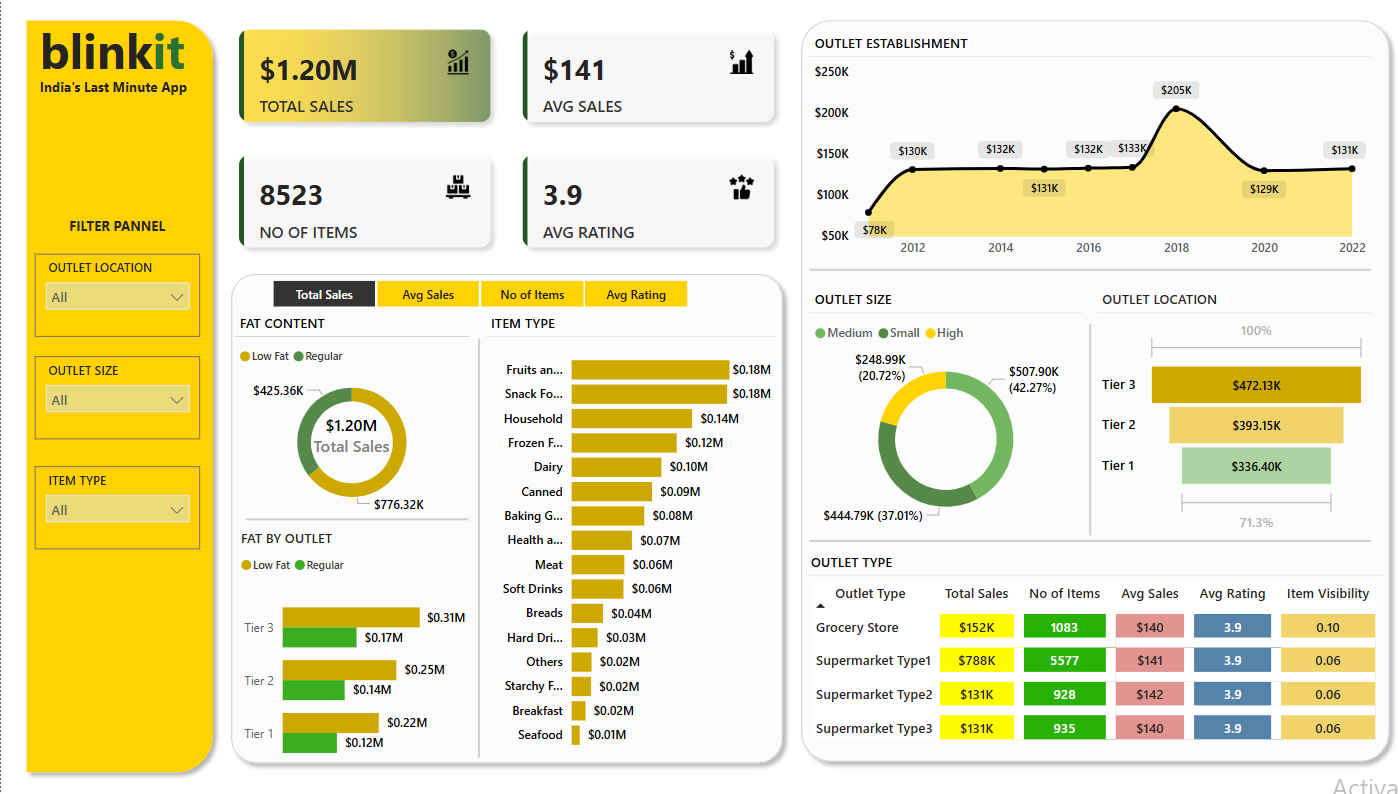

The dashboard page shown, as its layout file describes it:
{"tool":"powerbi","page":{"name":"Page 1","canvas":[1400,800],"ordinal":0},"visuals":[{"type":"shape","box":[16.3,10.9,205.2,771.7],"z":0},{"type":"textbox","box":[34,12.2,169.8,91],"z":1000},{"type":"textbox","box":[34,72,169.8,31.3],"z":2000},{"type":"cardVisual","fields":{"Data":["BlinkIT Grocery Data.Total Sales","BlinkIT Grocery Data.Avg Sales","BlinkIT Grocery Data.No of Items","BlinkIT Grocery Data.Avg Rating"]},"box":[221.5,12.2,570.7,252.7],"z":3000},{"type":"shape","box":[221.5,264.9,570.7,508.2],"z":4000},{"type":"slicer","fields":{"Values":["Metrics.Metrics"]},"box":[247.3,274.5,464.7,39.4],"z":5000},{"type":"donutChart","title":"FAT CONTENT","fields":{"Y":["BlinkIT Grocery Data.No of Items"],"Category":["BlinkIT Grocery Data.Item Fat Content"]},"box":[233.7,313.9,235.1,206.5],"z":6000},{"type":"cardVisual","fields":{"Data":["BlinkIT Grocery Data.No of Items"]},"box":[293.5,396.7,116.8,73.4],"z":7000},{"type":"clusteredBarChart","title":"FAT BY OUTLET","fields":{"Y":["BlinkIT Grocery Data.No of Items"],"Category":["BlinkIT Grocery Data.Outlet Location Type"],"Series":["BlinkIT Grocery Data.Item Fat Content"]},"box":[235.1,529.9,235.1,252.7],"z":8000},{"type":"shape","box":[245.9,489.1,222.8,61.1],"z":9000},{"type":"shape","box":[456.5,339.7,43.5,419.8],"z":10000},{"type":"barChart","title":"ITEM TYPE","fields":{"Y":["BlinkIT Grocery Data.No of Items"],"Category":["BlinkIT Grocery Data.Item Type"]},"box":[486.4,313.9,290.8,445.7],"z":11000},{"type":"shape","box":[792.1,10.9,607.3,760.9],"z":12000},{"type":"areaChart","title":"OUTLET ESTABLISHMENT","fields":{"Category":["BlinkIT Grocery Data.Outlet Establishment Year"],"Y":["BlinkIT Grocery Data.Total Sales"]},"box":[809.8,34,562.5,231],"z":13000},{"type":"donutChart","title":"OUTLET SIZE","fields":{"Category":["BlinkIT Grocery Data.Outlet Size"],"Y":["BlinkIT Grocery Data.Total Sales"]},"box":[809.8,290.8,273.1,245.9],"z":14000},{"type":"shape","box":[809.8,248.6,562.5,42.1],"z":15000},{"type":"shape","box":[1069.3,324.7,43.5,212],"z":16000},{"type":"funnel","title":"OUTLET LOCATION","fields":{"Category":["BlinkIT Grocery Data.Outlet Location Type"],"Y":["BlinkIT Grocery Data.Total Sales"]},"box":[1097.8,290.8,274.5,245.9],"z":17000},{"type":"shape","box":[809.8,520.4,562.5,42.1],"z":18000},{"type":"pivotTable","title":"OUTLET TYPE","fields":{"Rows":["BlinkIT Grocery Data.Outlet Type"],"Values":["BlinkIT Grocery Data.Total Sales","BlinkIT Grocery Data.No of Items","BlinkIT Grocery Data.Avg Sales","BlinkIT Grocery Data.Avg Rating","Avg(BlinkIT Grocery Data.Item Visibility)"]},"box":[807.1,553,578.8,220.1],"z":19000},{"type":"slicer","fields":{"Values":["BlinkIT Grocery Data.Outlet Location Type"]},"box":[34,254.1,165.8,82.9],"z":20000},{"type":"slicer","fields":{"Values":["BlinkIT Grocery Data.Outlet Size"]},"box":[34,357.3,165.8,82.9],"z":21000},{"type":"slicer","fields":{"Values":["BlinkIT Grocery Data.Item Type"]},"box":[34,467.4,165.8,82.9],"z":22000},{"type":"textbox","box":[42.6,209.1,147.8,40.1],"z":23000},{"type":"slicer","fields":{"Values":["BlinkIT Grocery Data.Item Fat Content"]},"box":[33.8,573.6,165.3,82.7],"z":24000}]}

Visuals, with their boxes in screenshot pixels (x1, y1, x2, y2), scaled from the page's 1400x800 canvas onto the 1398x794 screenshot:
shape: bbox=[16, 11, 221, 777]
textbox: bbox=[34, 12, 204, 102]
textbox: bbox=[34, 71, 204, 103]
cardVisual - BlinkIT Grocery Data.Total Sales x BlinkIT Grocery Data.Avg Sales: bbox=[221, 12, 791, 263]
shape: bbox=[221, 263, 791, 767]
slicer - Metrics.Metrics: bbox=[247, 272, 711, 312]
"FAT CONTENT" donutChart: bbox=[233, 312, 468, 516]
cardVisual - BlinkIT Grocery Data.No of Items: bbox=[293, 394, 410, 467]
"FAT BY OUTLET" clusteredBarChart: bbox=[235, 526, 470, 777]
shape: bbox=[246, 485, 468, 546]
shape: bbox=[456, 337, 499, 754]
"ITEM TYPE" barChart: bbox=[486, 312, 776, 754]
shape: bbox=[791, 11, 1397, 766]
"OUTLET ESTABLISHMENT" areaChart: bbox=[809, 34, 1370, 263]
"OUTLET SIZE" donutChart: bbox=[809, 289, 1081, 533]
shape: bbox=[809, 247, 1370, 289]
shape: bbox=[1068, 322, 1111, 533]
"OUTLET LOCATION" funnel: bbox=[1096, 289, 1370, 533]
shape: bbox=[809, 516, 1370, 558]
"OUTLET TYPE" pivotTable: bbox=[806, 549, 1384, 767]
slicer - BlinkIT Grocery Data.Outlet Location Type: bbox=[34, 252, 200, 334]
slicer - BlinkIT Grocery Data.Outlet Size: bbox=[34, 355, 200, 437]
slicer - BlinkIT Grocery Data.Item Type: bbox=[34, 464, 200, 546]
textbox: bbox=[43, 208, 190, 247]
slicer - BlinkIT Grocery Data.Item Fat Content: bbox=[34, 569, 199, 651]
